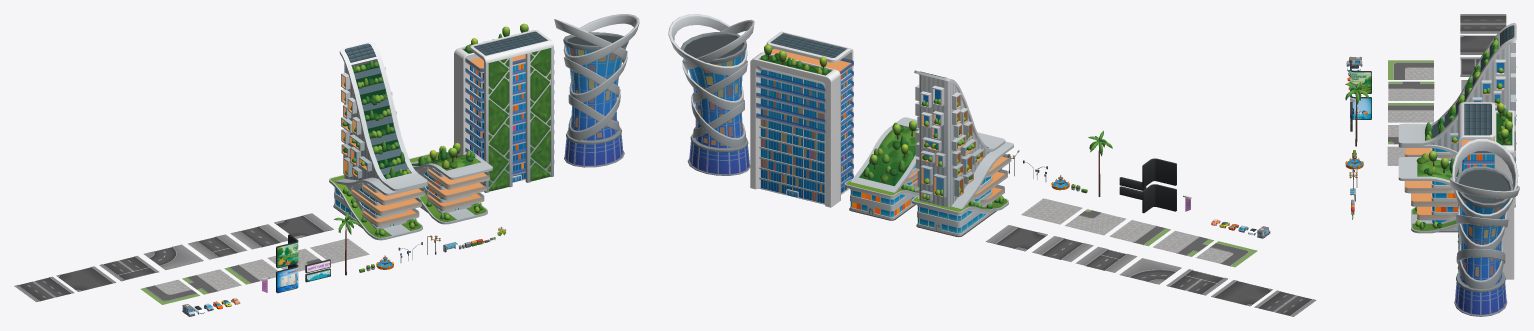
Rendered from One_file_assets.glb.
3 renders of one model, left to right at view 1: azimuth 30°, elevation 25°; view 2: azimuth 150°, elevation 25°; view 3: azimuth 270°, elevation 25°, orthographic. The views are drawn at different scales.
Parts seen in each view (by area): view 1: Eco_Building_Grid, Eco_Building_Slope, Regular_Building_TwistedTower_Large, Eco_Building_Terrace, road_013, road_019, road_020, road_003, road_001, road_022, Set_B_Tiles_04, Set_B_Tiles_01 (+6 smaller); view 2: Eco_Building_Grid, Eco_Building_Slope, Regular_Building_TwistedTower_Large, Eco_Building_Terrace, Eco_Building_Grid_NightLight, road_013, road_020, road_019, road_003, road_001, Set_B_Tiles_06, Set_B_Tiles_01 (+8 smaller); view 3: Regular_Building_TwistedTower_Large, Eco_Building_Slope, Eco_Building_Grid, Eco_Building_Terrace, Set_B_Tiles_04, Set_B_Tiles_05, Set_B_Tiles_01, road_001, road_003, Billboard_2x1_03, Billboard_2x1_05, Palm_03 (+6 smaller).
Part boxes in pixels (<box>): Eco_Building_Grid: <box>454,23,554,192</box>; Eco_Building_Slope: <box>329,41,427,240</box>; Regular_Building_TwistedTower_Large: <box>554,14,639,167</box>; Eco_Building_Terrace: <box>409,143,492,224</box>; road_013: <box>144,244,203,269</box>; road_019: <box>274,213,333,238</box>; road_020: <box>99,255,159,281</box>; road_003: <box>56,266,115,291</box>; road_001: <box>14,276,74,301</box>; road_022: <box>188,234,247,259</box>; Set_B_Tiles_04: <box>182,269,241,294</box>; Set_B_Tiles_01: <box>140,279,199,304</box>; Eco_Building_Grid: <box>750,31,853,207</box>; Eco_Building_Slope: <box>911,70,1013,237</box>; Regular_Building_TwistedTower_Large: <box>668,14,754,175</box>; Eco_Building_Terrace: <box>844,117,919,220</box>; Eco_Building_Grid_NightLight: <box>761,70,850,201</box>; road_013: <box>1119,258,1181,284</box>; road_020: <box>1166,269,1227,295</box>; road_019: <box>986,225,1047,251</box>; road_003: <box>1211,280,1272,306</box>; road_001: <box>1254,290,1316,316</box>; Set_B_Tiles_06: <box>1065,209,1126,235</box>; Set_B_Tiles_01: <box>1196,241,1257,267</box>; Regular_Building_TwistedTower_Large: <box>1449,139,1519,316</box>; Eco_Building_Slope: <box>1398,23,1516,162</box>; Eco_Building_Grid: <box>1457,102,1514,279</box>; Eco_Building_Terrace: <box>1398,151,1515,233</box>; Set_B_Tiles_04: <box>1388,81,1434,100</box>; Set_B_Tiles_05: <box>1388,103,1433,122</box>; Set_B_Tiles_01: <box>1388,60,1433,79</box>; road_001: <box>1460,14,1506,33</box>; road_003: <box>1460,35,1495,54</box>; Billboard_2x1_03: <box>1350,95,1371,119</box>; Billboard_2x1_05: <box>1350,60,1371,93</box>; Palm_03: <box>1345,82,1368,146</box>.
Size of the model in its own units: 240 by 57.49 by 57.
Materials: 16 (14 with a texture image).
